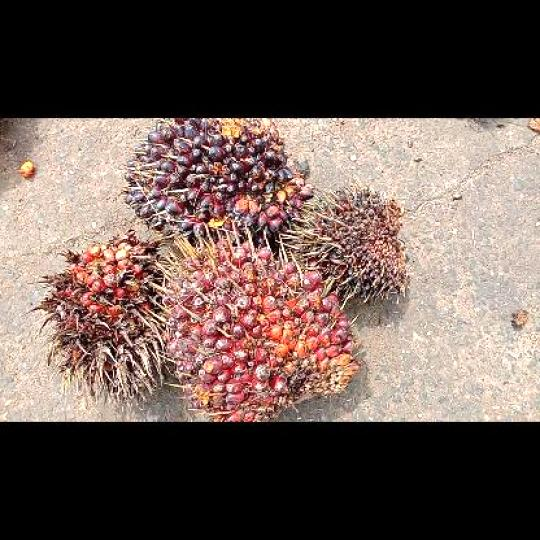kurang masak: (121, 118, 315, 258)
masak: (152, 239, 359, 420)
terlalu masak: (19, 229, 165, 407)
